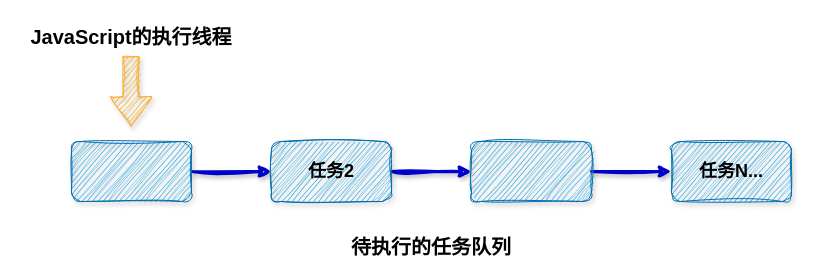
Some shapes in this 815 by 278 pixel diagram are drawn without their labels. The shapes that lost their labels are listed below. From the top down, each one's centre as x and y in pixels, then its label:
At (132,172): "任务1".
At (532,172): "任务3".
